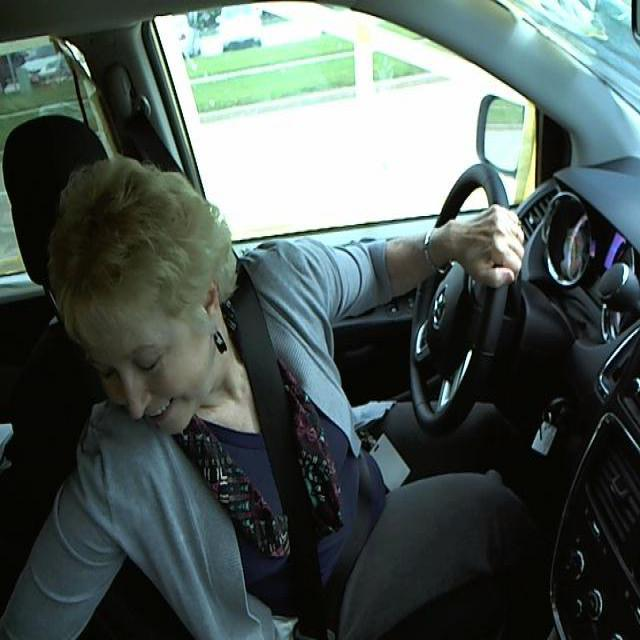seatbelt: (232, 301, 374, 628)
